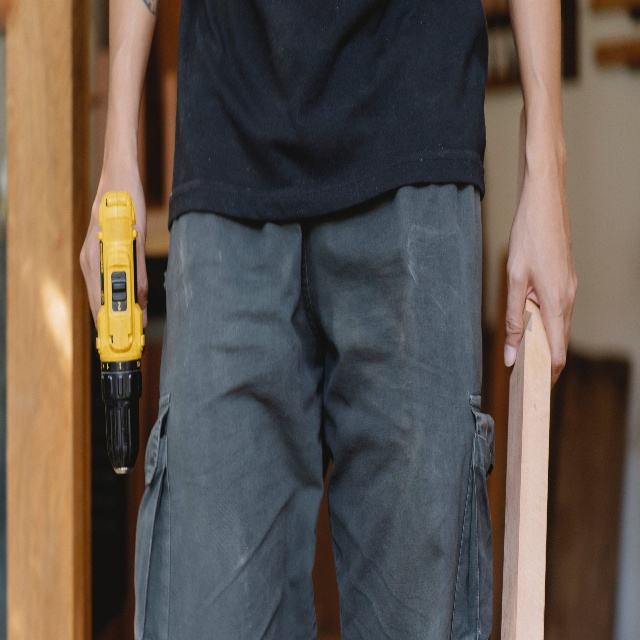Sin_guantes: (503, 166, 578, 391), (79, 160, 149, 332)
